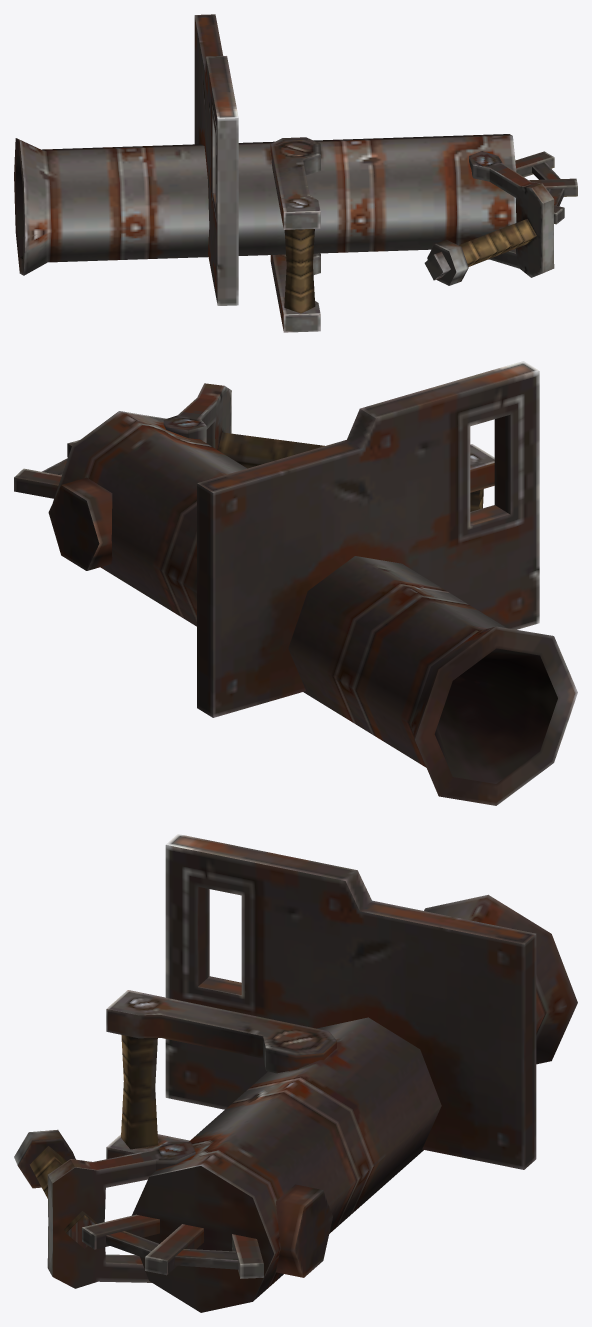
Rendered from cannon17_fdc7986b.glb.
3 renders of one model, top to bottom at view 1: azimuth 30°, elevation 25°; view 2: azimuth 150°, elevation 25°; view 3: azimuth 270°, elevation 25°, orthographic. The views are drawn at different scales.
Size of the model in its own units: 2.01 by 0.8926 by 1.55.
1 material, 1 textured.
